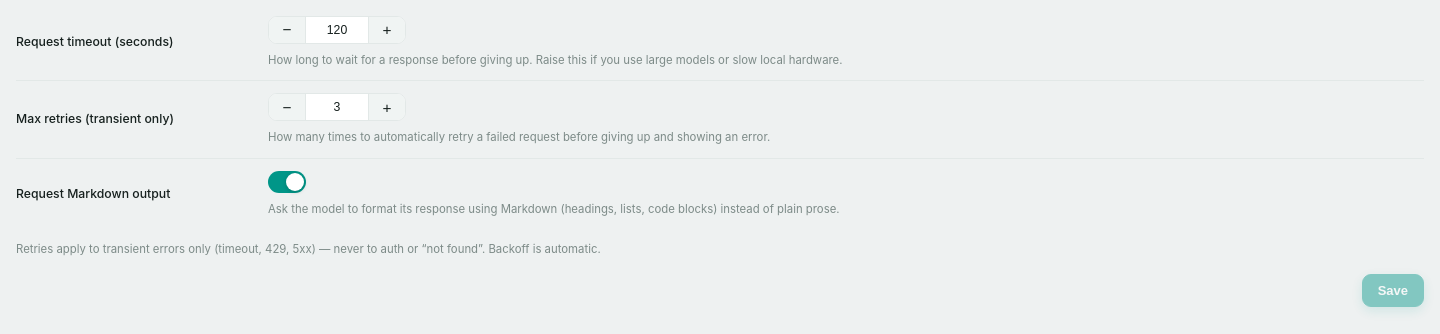
InferenceConfigTab › enables Save button when user changes the timeout value
This screenshot has width=1440, height=334.
Replace the text in the number field named "request timeout" with "60" at coordinates (337, 30), box [305,17,369,43]
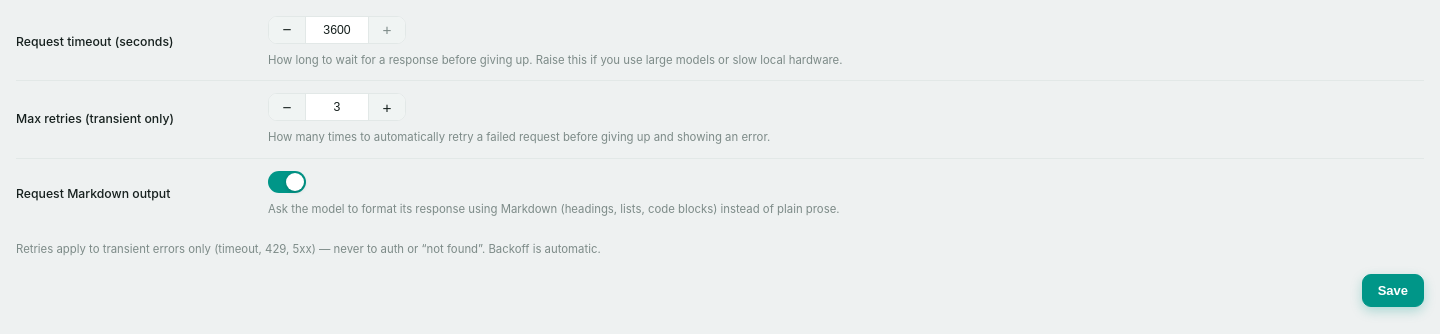
Expected: the button "Save" is enabled, [1362,274,1424,307]
